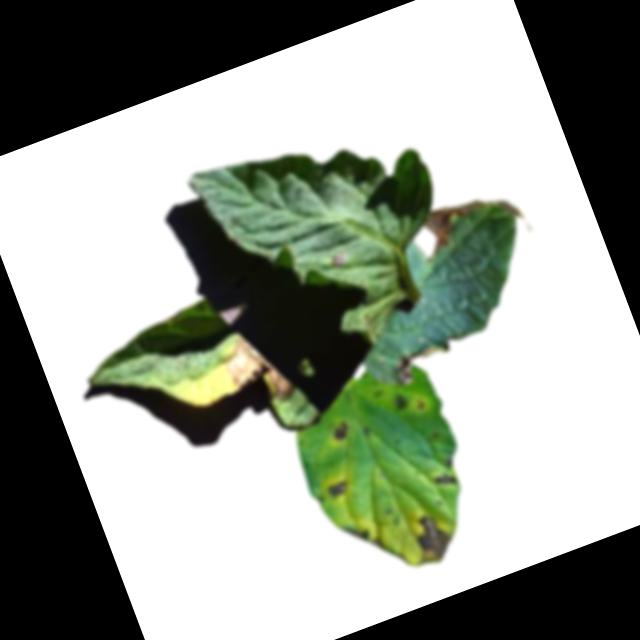Early_blight: (418, 176, 538, 266), (218, 323, 298, 413), (403, 508, 459, 572), (384, 337, 446, 389), (337, 521, 370, 549), (323, 477, 352, 502), (387, 390, 412, 417), (328, 418, 353, 444), (432, 471, 458, 492), (329, 247, 351, 269)
